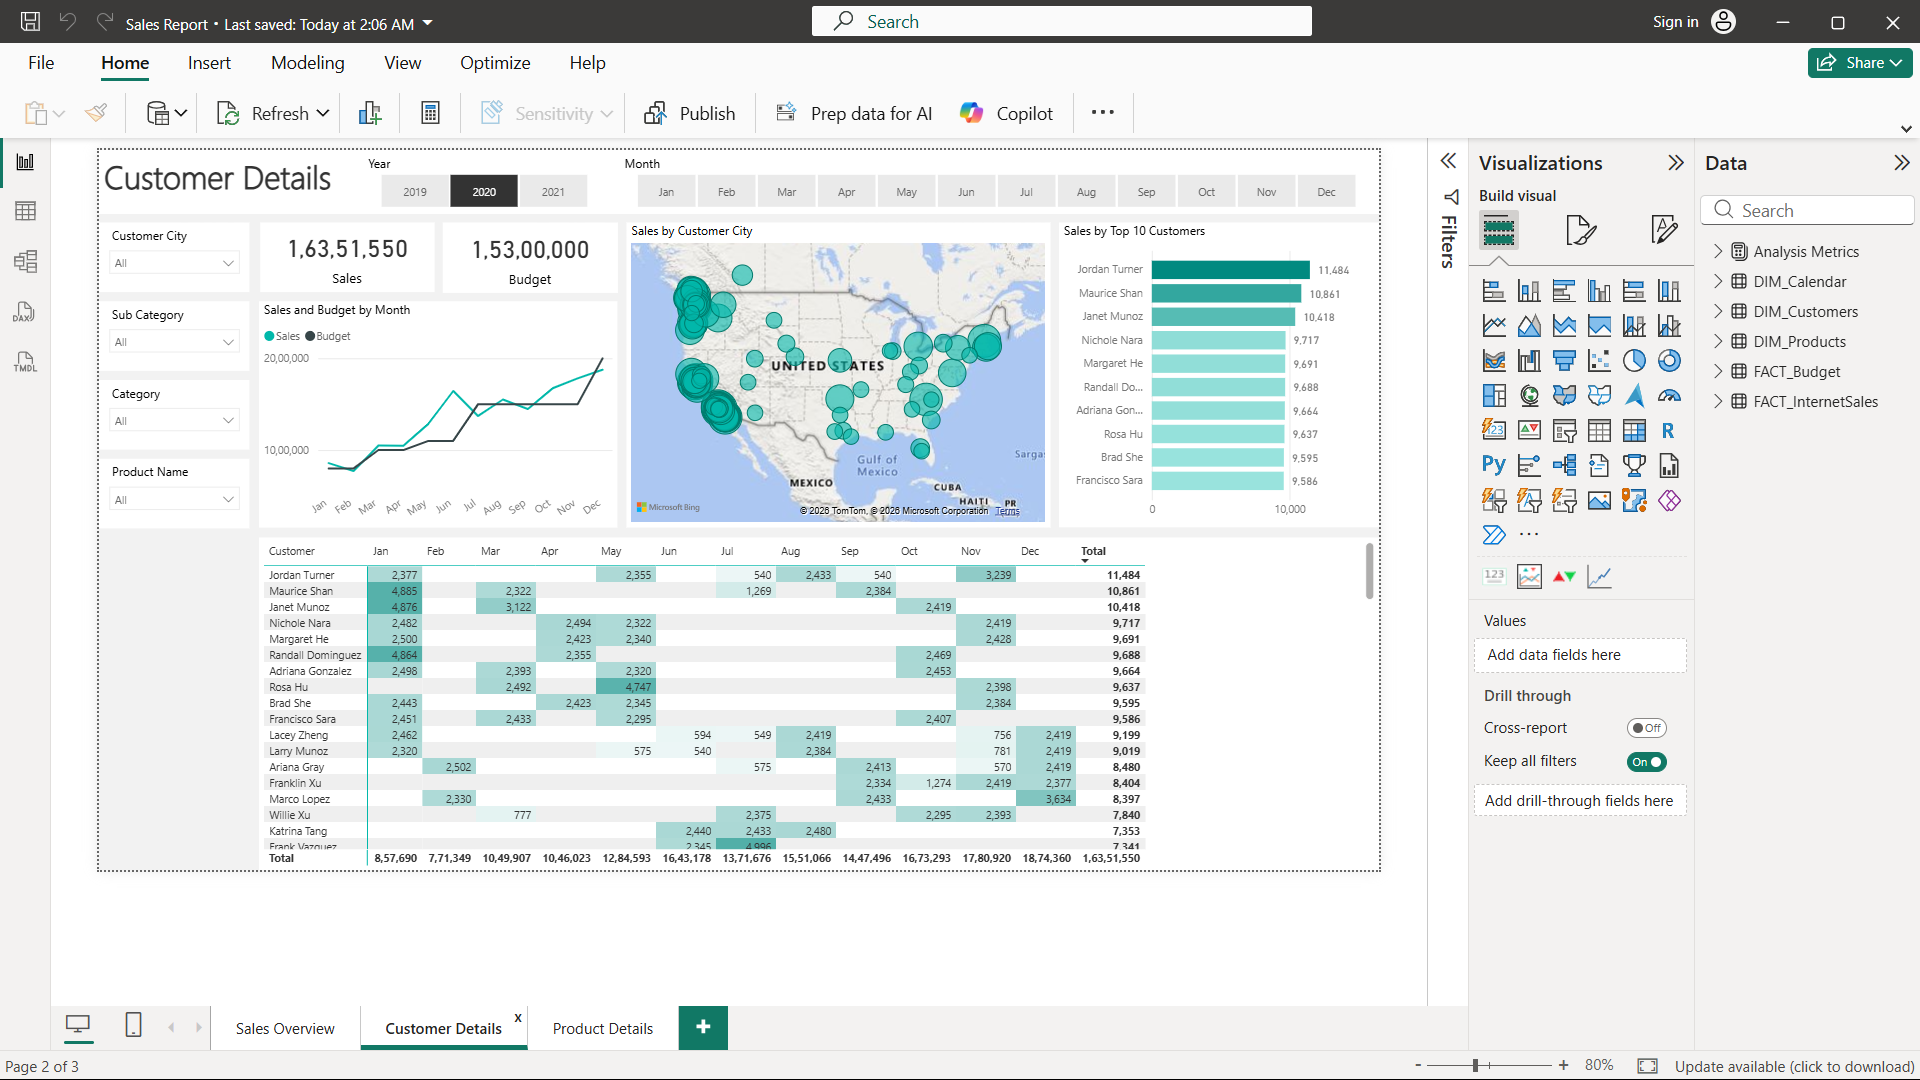

What the dashboard file says about the page in this screenshot:
{"tool":"powerbi","page":{"name":"Customer Details","canvas":[1280,720],"ordinal":1},"visuals":[{"type":"textbox","box":[0,0,1280,64],"z":0},{"type":"slicer","fields":{"Values":["DIM_Calendar.Year"]},"box":[256,0,256,64],"z":1000},{"type":"slicer","fields":{"Values":["DIM_Calendar.MonthShort"]},"box":[512,0,768,64],"z":2000},{"type":"slicer","fields":{"Values":["DIM_Customers.Customer City"]},"box":[0,73,150.5,69.3],"z":3000},{"type":"slicer","fields":{"Values":["DIM_Products.Product Category"]},"box":[0,229.9,150.5,69.3],"z":4000},{"type":"slicer","fields":{"Values":["DIM_Products.Product Name"]},"box":[0,308.4,150.5,69.3],"z":5000},{"type":"slicer","fields":{"Values":["DIM_Products.Sub Category"]},"box":[0,151.4,150.5,69.3],"z":6000},{"type":"lineChart","fields":{"Category":["DIM_Calendar.MonthShort"],"Y":["Analysis Metrics.Sales","Analysis Metrics.Budget"]},"box":[159.8,151.8,358.7,226.4],"z":7000},{"type":"card","fields":{"Values":["Analysis Metrics.Sales"]},"box":[160.7,72.8,174,69.2],"z":8000},{"type":"map","fields":{"Category":["DIM_Customers.Customer City"],"Size":["Analysis Metrics.Sales"]},"box":[527.3,72.8,423.5,304.5],"z":9000},{"type":"card","fields":{"Values":["Analysis Metrics.Budget"]},"box":[343.6,72.8,174.9,70.1],"z":10000},{"type":"pivotTable","fields":{"Columns":["DIM_Calendar.MonthShort"],"Rows":["DIM_Customers.Full Name"],"Values":["Analysis Metrics.Sales"]},"box":[159.8,387.1,1120.4,332.9],"z":11000},{"type":"barChart","title":"Sales by Top 10 Customers","fields":{"Category":["DIM_Customers.Full Name"],"Y":["Analysis Metrics.Sales"]},"box":[959.7,72.8,320.5,304.5],"z":12000}]}

Visuals, with their boxes on the page's 1280x720 design canvas (x1, y1, x2, y2). These are canvas units, not pixel positions in the 1920x1080 screenshot, which may show the page scaled, cropped or inside an application window:
textbox: (0,0,1280,64)
slicer - DIM_Calendar.Year: (256,0,512,64)
slicer - DIM_Calendar.MonthShort: (512,0,1280,64)
slicer - DIM_Customers.Customer City: (0,73,150,142)
slicer - DIM_Products.Product Category: (0,230,150,299)
slicer - DIM_Products.Product Name: (0,308,150,378)
slicer - DIM_Products.Sub Category: (0,151,150,221)
lineChart - DIM_Calendar.MonthShort x Analysis Metrics.Sales: (160,152,518,378)
card - Analysis Metrics.Sales: (161,73,335,142)
map - DIM_Customers.Customer City x Analysis Metrics.Sales: (527,73,951,377)
card - Analysis Metrics.Budget: (344,73,518,143)
pivotTable - DIM_Calendar.MonthShort x DIM_Customers.Full Name: (160,387,1280,720)
"Sales by Top 10 Customers" barChart: (960,73,1280,377)
